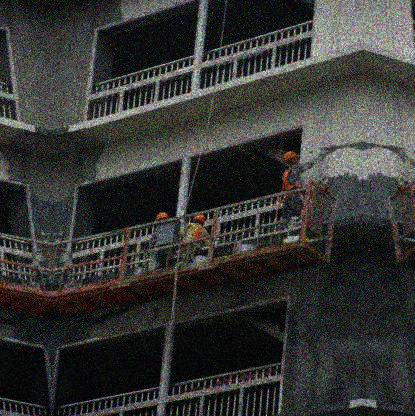helmet: (284, 151, 300, 166), (193, 214, 206, 225)
